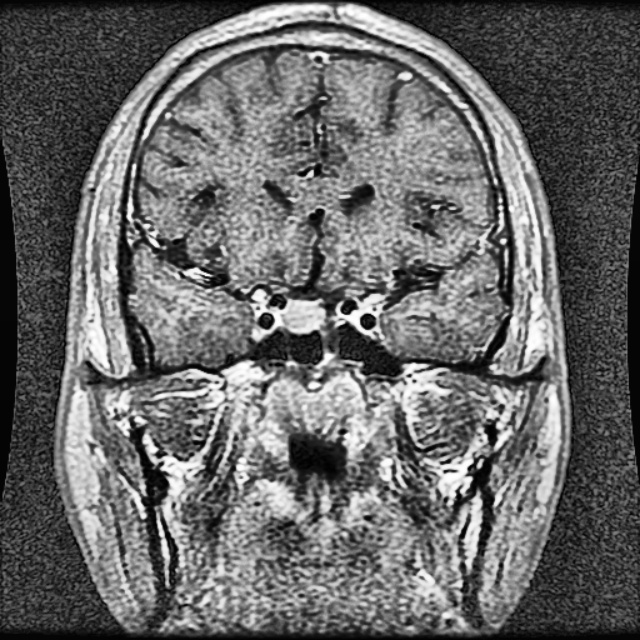Pituitary: (278, 299, 328, 332)
